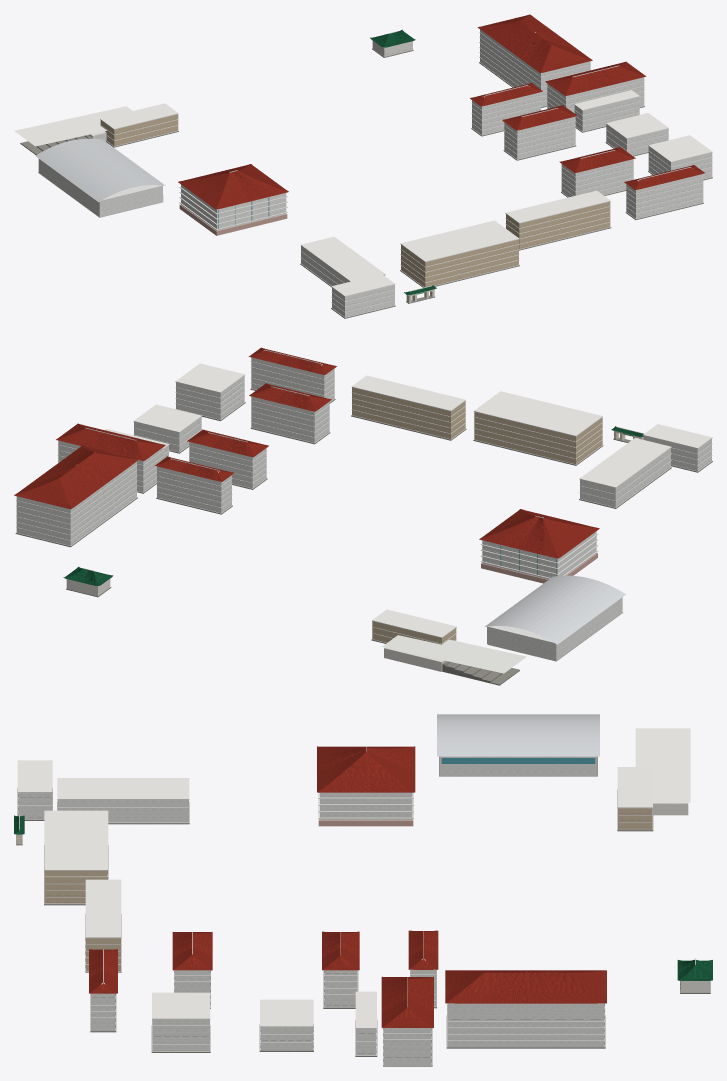
File: r2_outer_campus_lod1.glb
The picture shows the model from 3 angles, top to bottom: view 1: azimuth 30°, elevation 25°; view 2: azimuth 150°, elevation 25°; view 3: azimuth 270°, elevation 25°; orthographic projection. The views are drawn at different scales.
Parts seen in each view (by area): view 1: r2_outer_gymnasium.001, r2_outer_dorm_m_north.001, r2_outer_south_annex_w.001, r2_outer_dorm_f.001, r2_outer_south_annex_e.001, r2_outer_dorm_se_b.001, r2_outer_dorm_m_mid2.001, r2_outer_dorm_m_east1.001, r2_outer_dorm_se_a.001, r2_outer_canteen3.001, r2_outer_dorm_m_mid1.001, r2_outer_west_sports_annex.001 (+6 smaller); view 2: r2_outer_dorm_m_north.001, r2_outer_gymnasium.001, r2_outer_south_annex_w.001, r2_outer_dorm_f.001, r2_outer_south_annex_e.001, r2_outer_stadium_stand.001, r2_outer_canteen3.001, r2_outer_dorm_se_a.001, r2_outer_dorm_m_mid1.001, r2_outer_east_hall_se.001, r2_outer_dorm_m_mid2.001, r2_outer_dorm_se_b.001 (+5 smaller); view 3: r2_outer_dorm_m_north.001, r2_outer_gymnasium.001, r2_outer_dorm_f.001, r2_outer_south_annex_w.001, r2_outer_canteen3.001, r2_outer_dorm_m_east1.001, r2_outer_stadium_stand.001, r2_outer_east_hall_se.001, r2_outer_canteen1.001, r2_outer_south_annex_e.001, r2_outer_dorm_m_mid2.001, r2_outer_dorm_se_a.001 (+6 smaller).
Boxes of the visible parts, <box> form: r2_outer_gymnasium.001: <box>35,138,165,217</box>; r2_outer_dorm_m_north.001: <box>477,14,592,107</box>; r2_outer_south_annex_w.001: <box>400,220,519,287</box>; r2_outer_dorm_f.001: <box>178,164,288,235</box>; r2_outer_south_annex_e.001: <box>505,190,611,250</box>; r2_outer_dorm_se_b.001: <box>624,165,705,219</box>; r2_outer_dorm_m_mid2.001: <box>502,105,577,160</box>; r2_outer_dorm_m_east1.001: <box>545,61,646,113</box>; r2_outer_dorm_se_a.001: <box>559,147,635,197</box>; r2_outer_canteen3.001: <box>300,236,385,287</box>; r2_outer_dorm_m_mid1.001: <box>470,83,542,136</box>; r2_outer_west_sports_annex.001: <box>100,103,178,147</box>; r2_outer_dorm_m_north.001: <box>14,445,139,547</box>; r2_outer_gymnasium.001: <box>484,575,625,661</box>; r2_outer_south_annex_w.001: <box>473,391,603,465</box>; r2_outer_dorm_f.001: <box>479,509,599,583</box>; r2_outer_south_annex_e.001: <box>351,375,466,440</box>; r2_outer_stadium_stand.001: <box>382,635,526,685</box>; r2_outer_canteen3.001: <box>579,438,671,508</box>; r2_outer_dorm_se_a.001: <box>249,383,331,444</box>; r2_outer_dorm_m_mid1.001: <box>154,456,234,514</box>; r2_outer_east_hall_se.001: <box>175,363,245,421</box>; r2_outer_dorm_m_mid2.001: <box>187,429,268,489</box>; r2_outer_dorm_se_b.001: <box>248,347,337,403</box>; r2_outer_dorm_m_north.001: <box>445,970,606,1048</box>; r2_outer_gymnasium.001: <box>437,714,599,776</box>; r2_outer_dorm_f.001: <box>317,746,415,826</box>; r2_outer_south_annex_w.001: <box>44,810,108,905</box>; r2_outer_canteen3.001: <box>57,778,189,824</box>; r2_outer_dorm_m_east1.001: <box>381,976,433,1066</box>; r2_outer_stadium_stand.001: <box>635,728,690,815</box>; r2_outer_east_hall_se.001: <box>151,992,210,1052</box>; r2_outer_canteen1.001: <box>259,999,313,1051</box>; r2_outer_south_annex_e.001: <box>85,879,121,972</box>; r2_outer_dorm_m_mid2.001: <box>322,931,359,1008</box>; r2_outer_dorm_se_a.001: <box>172,932,212,1008</box>.
Bounding box in the file's own units: 354 × 30.53 × 316.
Materials: 20 (9 with a texture image).
